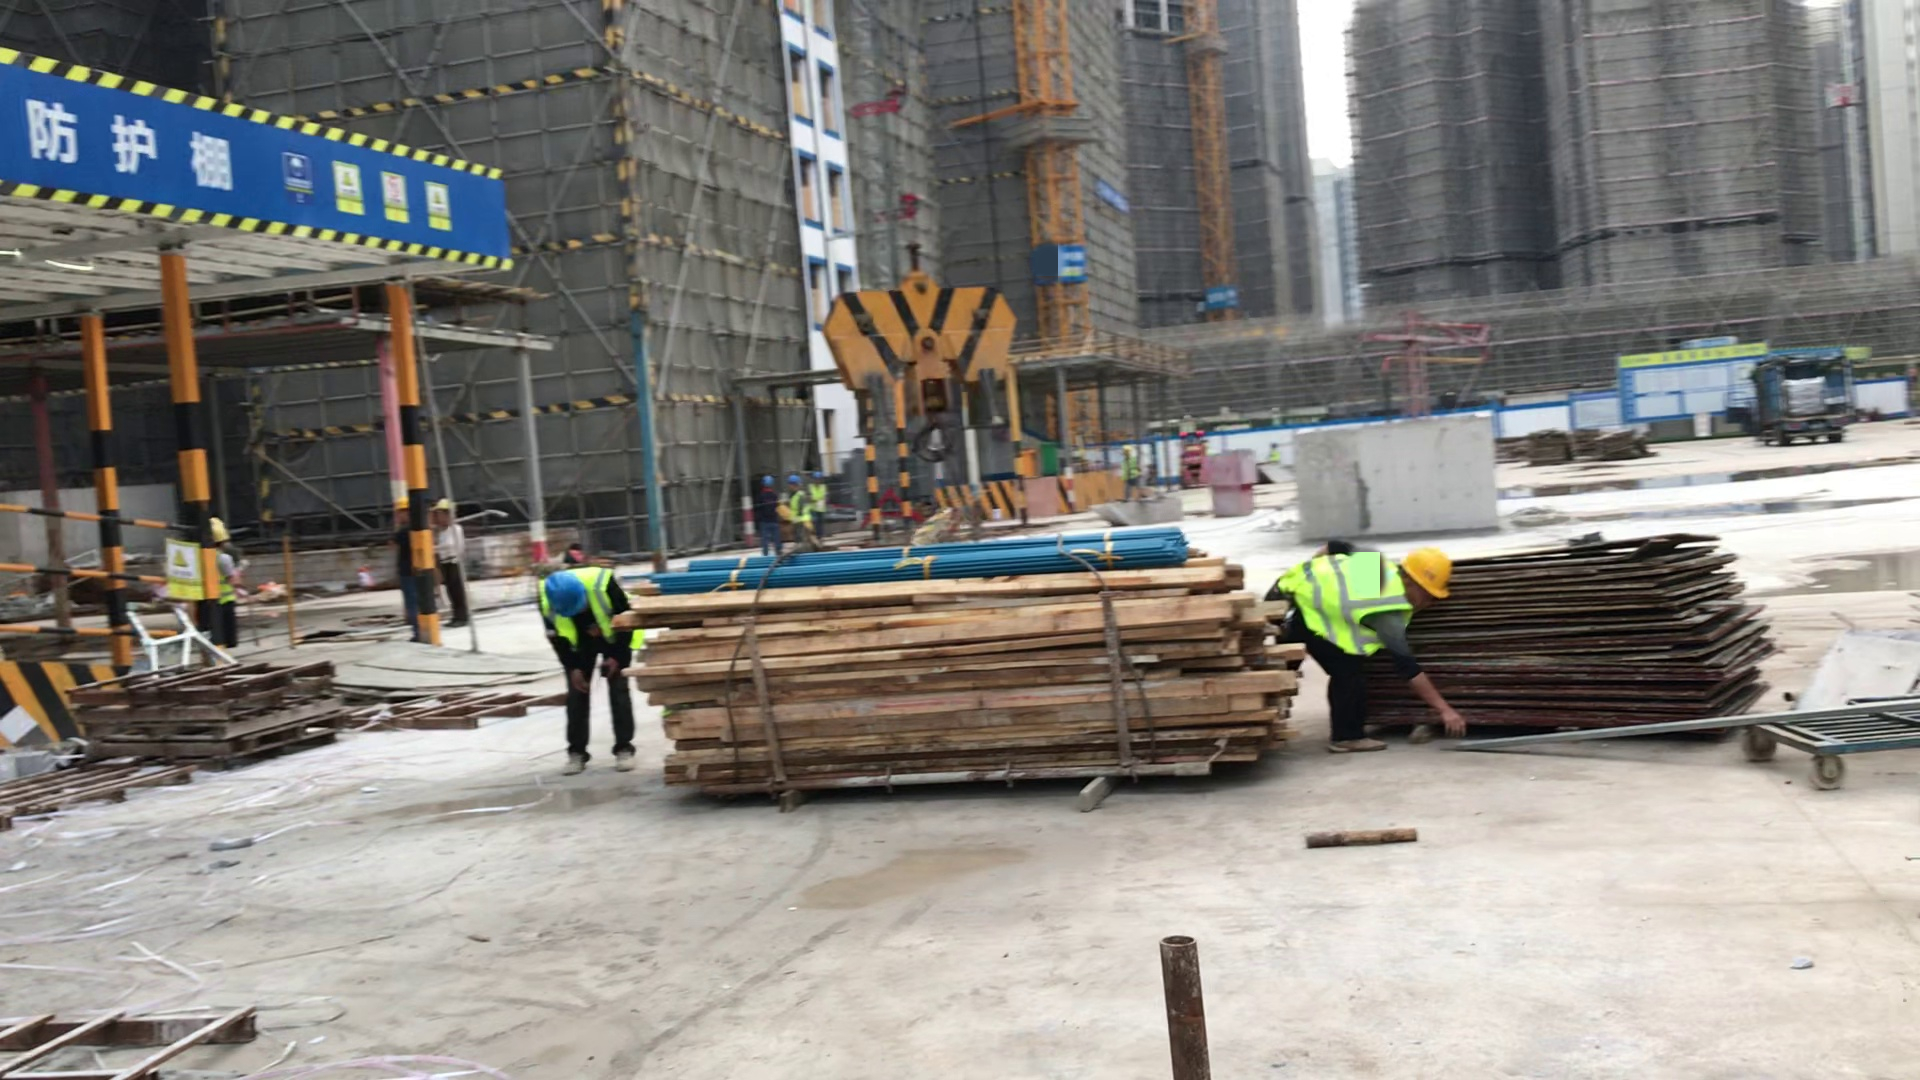board: (1454, 539, 1770, 729)
helmet: (1401, 548, 1452, 599), (544, 571, 586, 617), (431, 499, 454, 513), (214, 526, 229, 544), (762, 475, 773, 489), (789, 476, 801, 484)
hook: (824, 245, 1019, 461)
hopper: (1094, 499, 1188, 526)
person: (1273, 550, 1467, 761), (538, 564, 638, 779), (429, 497, 465, 630), (214, 527, 244, 658), (786, 476, 811, 548), (755, 477, 779, 553), (811, 472, 828, 543), (1122, 448, 1139, 503)
slogan: (277, 149, 456, 238), (161, 541, 206, 603), (1100, 183, 1128, 212)
vest: (1285, 558, 1407, 659), (544, 569, 629, 648), (787, 493, 805, 522), (810, 484, 824, 508)
wood: (627, 573, 1298, 776)
